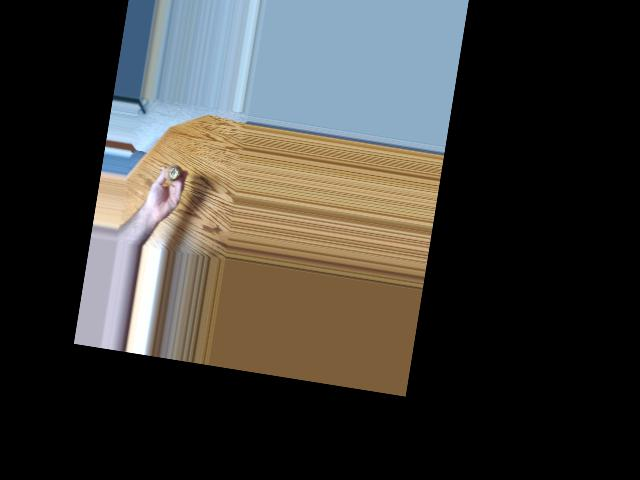sweet_potato: (161, 158, 181, 182)
